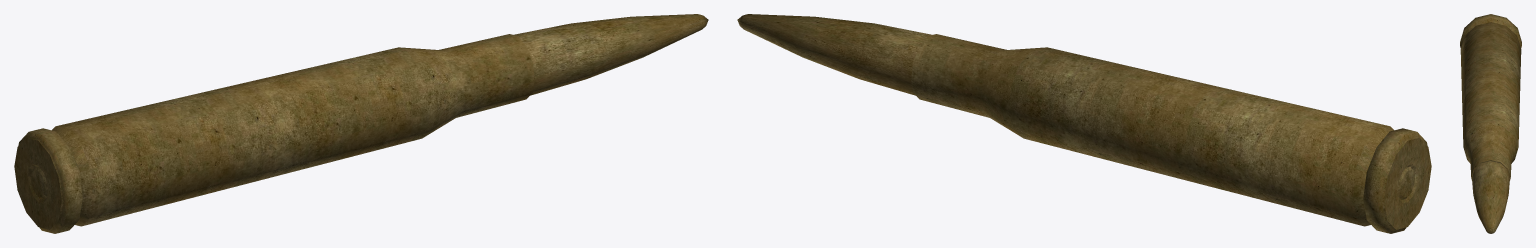
Rendered from Bullet.obj.
The picture shows the model from 3 angles, left to right: view 1: azimuth 30°, elevation 25°; view 2: azimuth 150°, elevation 25°; view 3: azimuth 270°, elevation 25°; orthographic projection. The views are drawn at different scales.
Parts seen in each view (by area): view 1: Cylinder001, Sphere001; view 2: Cylinder001, Sphere001; view 3: Cylinder001, Sphere001.
Part boxes in pixels (bbox=[...]): Cylinder001: bbox=[14, 34, 534, 233]; Sphere001: bbox=[513, 14, 708, 95]; Cylinder001: bbox=[911, 34, 1431, 233]; Sphere001: bbox=[737, 14, 932, 95]; Cylinder001: bbox=[1460, 14, 1521, 179]; Sphere001: bbox=[1472, 161, 1509, 233].
Size of the model in its own units: 204 by 27.78 by 27.78.
Materials: 1 (1 with a texture image).
